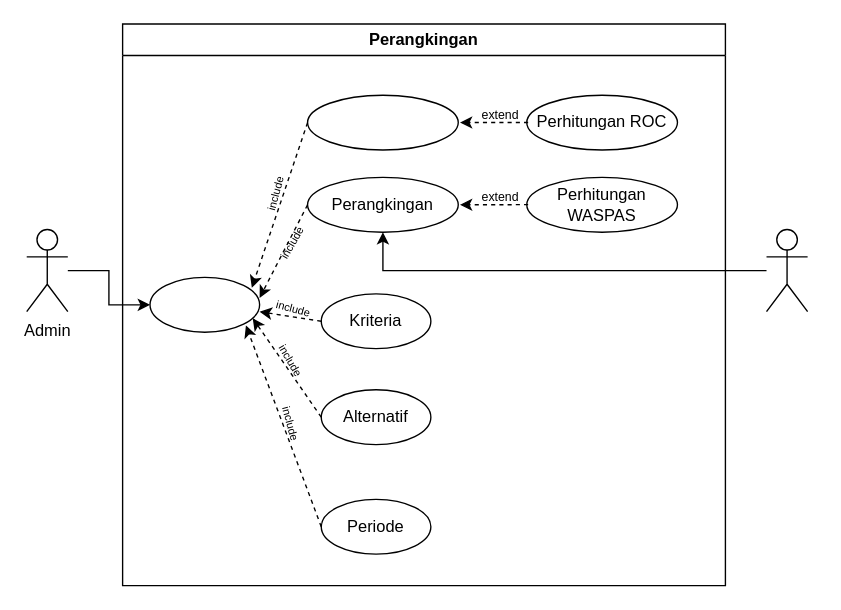
Some shapes in this 841 by 610 pixel diagram are drawn without their labels. The shapes that lost their labels are listed below. From the top down, each one's centre as x and y in pixels, then its label:
At (x=382, y=122): "Pembobotan".
At (x=786, y=270): "Pegawai".
At (x=204, y=304): "Login".
